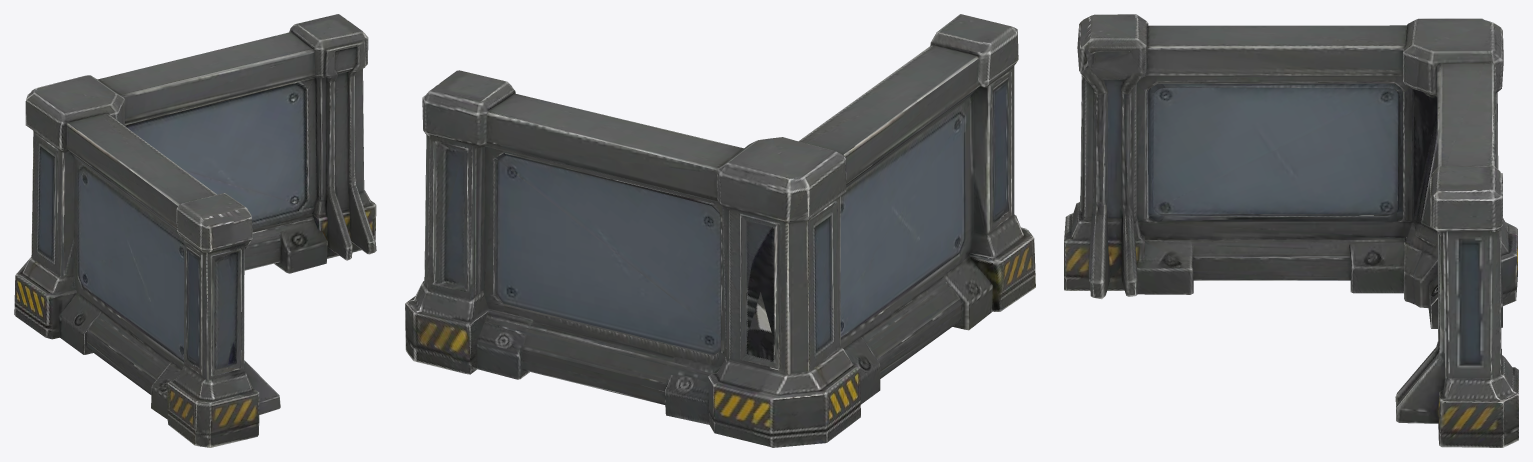
Rendered from corner_wall.glb.
3 renders of one model, left to right at view 1: azimuth 30°, elevation 25°; view 2: azimuth 150°, elevation 25°; view 3: azimuth 270°, elevation 25°, orthographic. The views are drawn at different scales.
Visible parts, largest first — view 1: mesh_node; view 2: mesh_node; view 3: mesh_node.
Part boxes in pixels (x1=…): mesh_node: x1=14, y1=14, x2=376, y2=447; mesh_node: x1=405, y1=14, x2=1035, y2=447; mesh_node: x1=1064, y1=14, x2=1518, y2=447.
Size of the model in its own units: 0.998 by 0.6132 by 1.
Materials: 1 (1 with a texture image).
